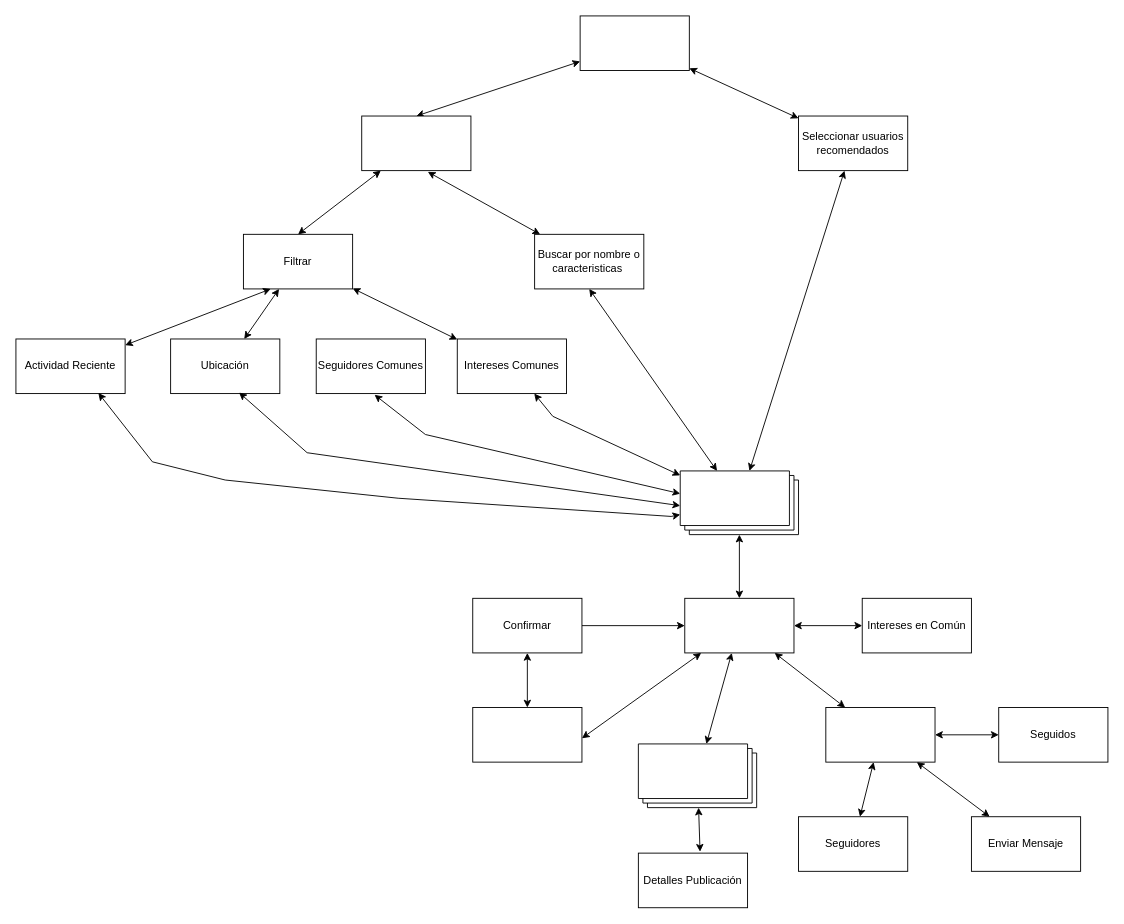
The diagram is 1124 pixels wide and 924 high, and some of its shapes have lost their labels. Each missing label, with the box of its shape:
Buscar usuario: (361, 115, 471, 171)
Detalles Usuario: (825, 707, 935, 762)
Explorar sistema: (579, 15, 689, 71)
Perfil: (684, 597, 794, 653)
Publicaciones recientes: (637, 743, 757, 808)
Seguir usuario: (472, 707, 582, 762)
Usuarios: (679, 470, 799, 535)
